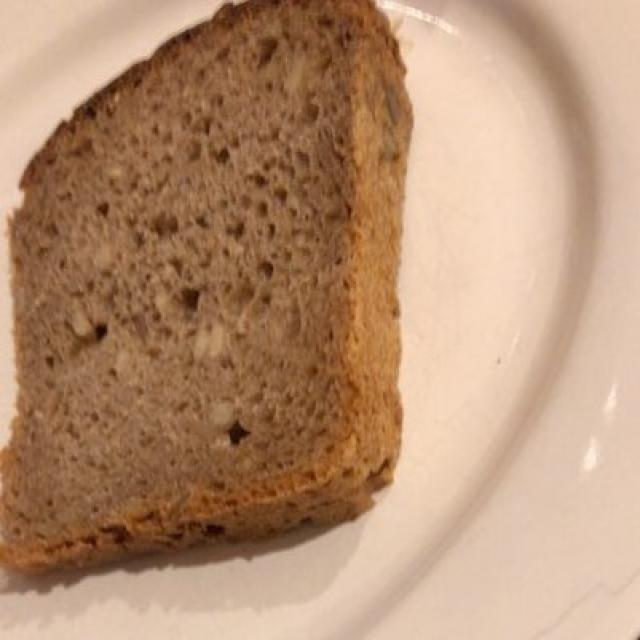bread: (9, 15, 401, 575)
